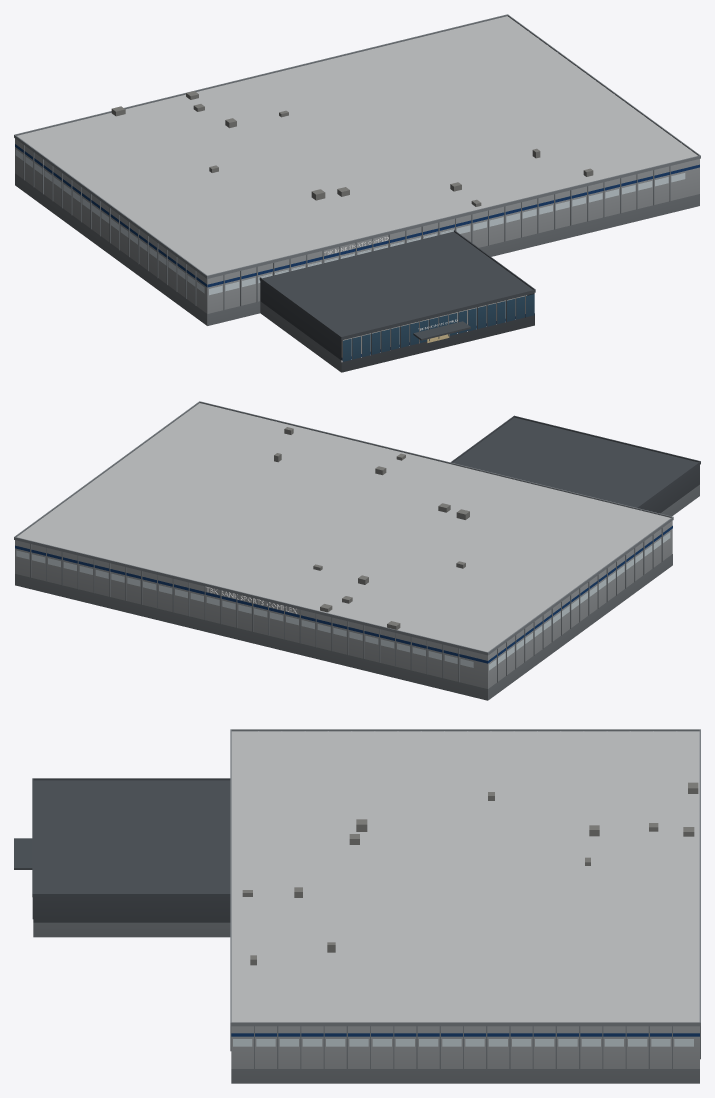
File: tbk.glb
3 renders of one model, top to bottom at view 1: azimuth 30°, elevation 25°; view 2: azimuth 150°, elevation 25°; view 3: azimuth 270°, elevation 25°, orthographic. The views are drawn at different scales.
Visible parts, largest first — view 1: tbk_lod0, tbk_int; view 2: tbk_lod0; view 3: tbk_lod0.
Boxes of the visible parts, box(x1,y1,x2,y2) form: tbk_lod0: box(14, 14, 700, 372); tbk_int: box(341, 295, 526, 360); tbk_lod0: box(14, 401, 700, 700); tbk_lod0: box(14, 729, 700, 1083).
Size of what is drawn, in the model's own units: 179 by 19.16 by 177.
